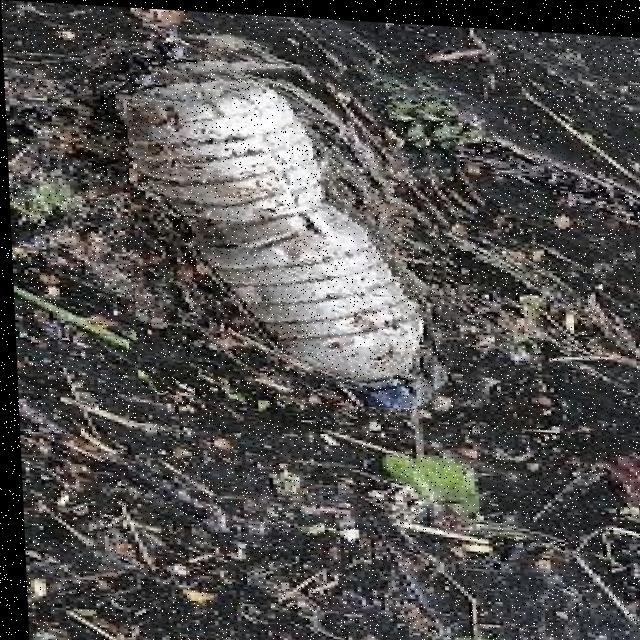plasticbottle: (122, 44, 459, 407)
